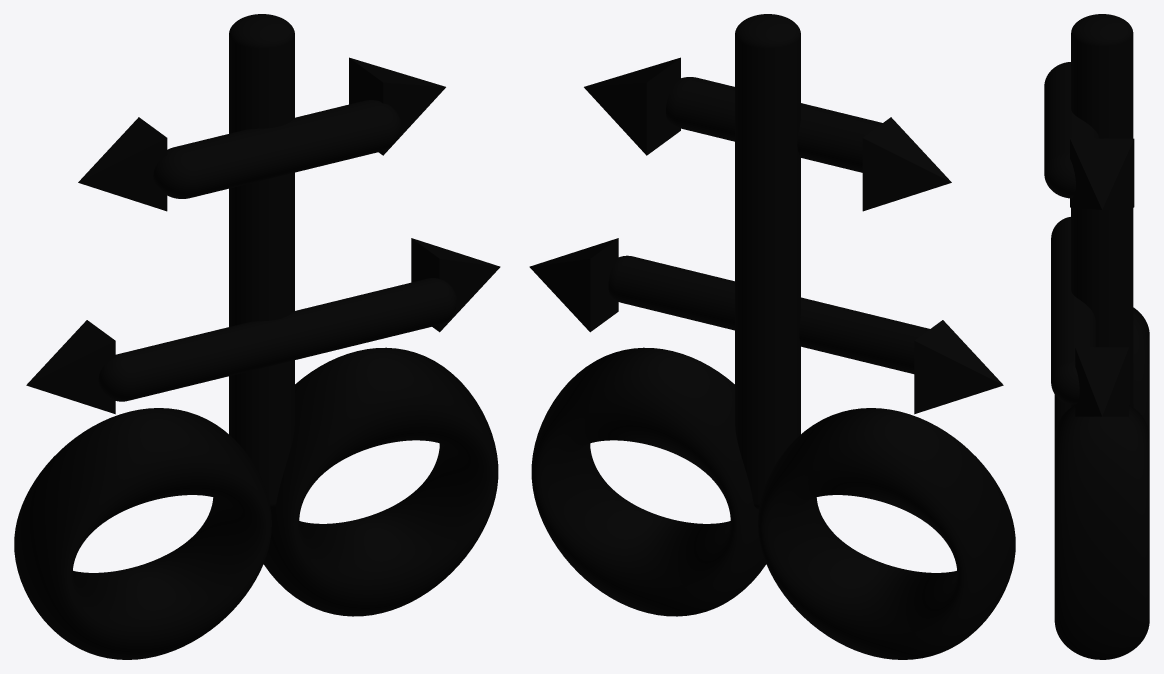
The picture shows the model from 3 angles, left to right: view 1: azimuth 30°, elevation 25°; view 2: azimuth 150°, elevation 25°; view 3: azimuth 270°, elevation 25°; orthographic projection. The views are drawn at different scales.
Visible parts, largest first — view 1: mesh_id33, mesh_id27, mesh_id37, mesh_id44, mesh_id42, mesh_id68, mesh_id79, mesh_id55, mesh_id61; view 2: mesh_id33, mesh_id27, mesh_id37, mesh_id44, mesh_id42, mesh_id55, mesh_id68, mesh_id79, mesh_id61; view 3: mesh_id27, mesh_id37, mesh_id44, mesh_id55, mesh_id42, mesh_id61, mesh_id33.
Part boxes in pixels (box(x1,y1,x2,y2)): mesh_id33: box(14, 408, 271, 659); mesh_id27: box(263, 347, 498, 616); mesh_id37: box(229, 14, 294, 509); mesh_id44: box(98, 278, 456, 401); mesh_id42: box(153, 100, 401, 198); mesh_id68: box(78, 117, 167, 211); mesh_id79: box(26, 320, 115, 414); mesh_id55: box(349, 57, 445, 155); mesh_id61: box(411, 238, 500, 332); mesh_id33: box(758, 408, 1015, 659); mesh_id27: box(531, 347, 766, 616); mesh_id37: box(735, 14, 800, 509); mesh_id44: box(608, 255, 929, 373); mesh_id42: box(666, 77, 882, 172); mesh_id55: box(584, 57, 680, 155); mesh_id68: box(862, 117, 951, 211); mesh_id79: box(914, 320, 1003, 414); mesh_id61: box(529, 238, 618, 332); mesh_id27: box(1054, 405, 1149, 659); mesh_id37: box(1071, 14, 1133, 407); mesh_id44: box(1051, 217, 1095, 404); mesh_id55: box(1070, 138, 1134, 209); mesh_id42: box(1044, 62, 1099, 198); mesh_id61: box(1075, 347, 1128, 416); mesh_id33: box(1054, 307, 1149, 434).
Bounding box in the file's own units: 0.1775 × 0.2203 × 0.0362.
Materials: 9 (9 with a texture image).
